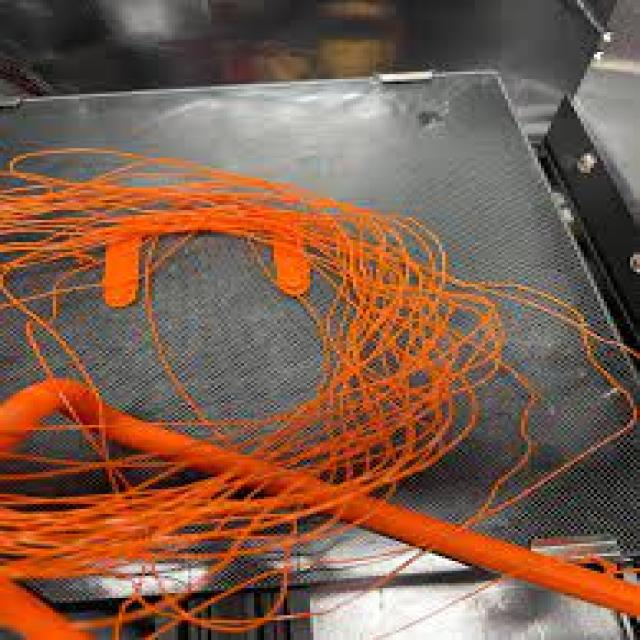spaghetti: (13, 146, 477, 592)
